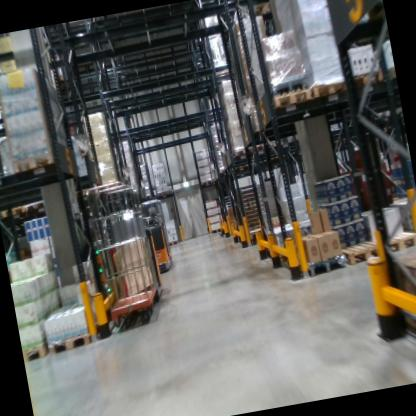pallet: (8, 142, 80, 185), (288, 249, 349, 283), (339, 233, 385, 271), (261, 85, 315, 117), (347, 61, 391, 98), (46, 326, 99, 356), (305, 73, 352, 103), (379, 226, 416, 259), (18, 193, 56, 222), (22, 341, 50, 366), (228, 143, 256, 164), (0, 200, 23, 225), (252, 0, 276, 17), (245, 227, 268, 242), (254, 140, 274, 154), (215, 164, 231, 177), (230, 161, 248, 172), (157, 187, 172, 199), (198, 178, 214, 189), (209, 227, 226, 236), (139, 195, 154, 204), (167, 237, 180, 247)
pallet_truck: (138, 208, 174, 275)
